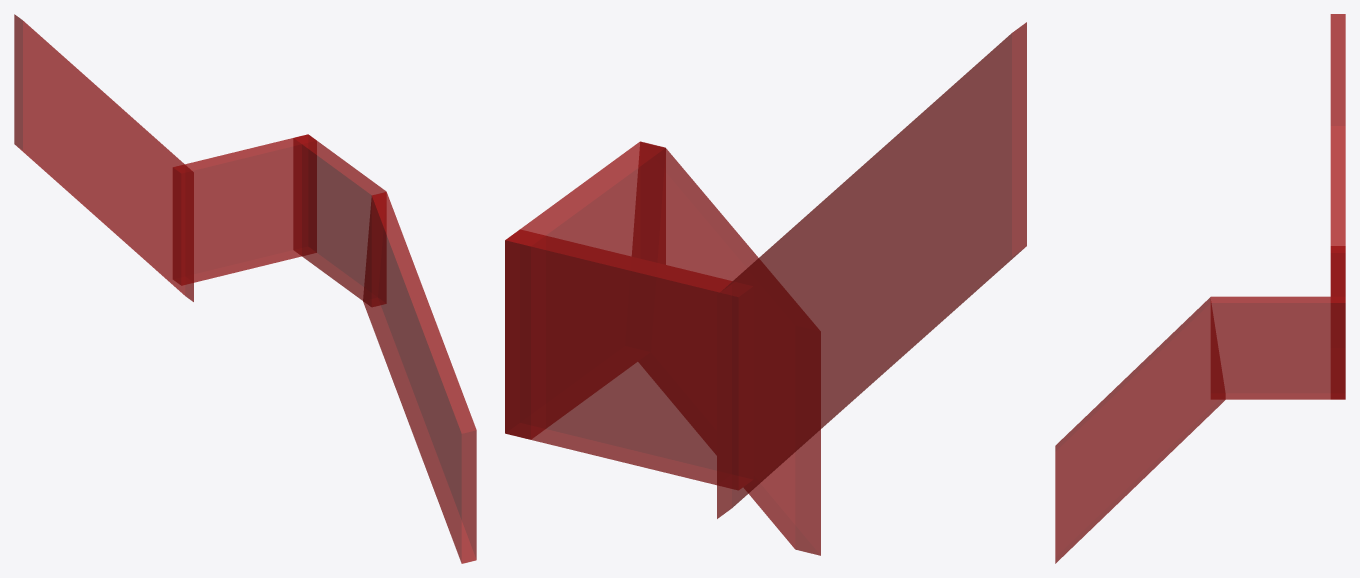
The model's file is SM_Bld_House_Stairs_Tall_Railing_02_Collision.fbx.
3 views of the same model, side by side, from view 1: azimuth 30°, elevation 25°; view 2: azimuth 150°, elevation 25°; view 3: azimuth 270°, elevation 25° (orthographic). The views are drawn at different scales.
Visible parts, largest first — view 1: SM_Bld_House_Stairs_Tall_Railing_02_Collision; view 2: SM_Bld_House_Stairs_Tall_Railing_02_Collision; view 3: SM_Bld_House_Stairs_Tall_Railing_02_Collision.
Boxes of the visible parts, x1=… form: SM_Bld_House_Stairs_Tall_Railing_02_Collision: x1=14, y1=14, x2=476, y2=563; SM_Bld_House_Stairs_Tall_Railing_02_Collision: x1=505, y1=22, x2=1026, y2=555; SM_Bld_House_Stairs_Tall_Railing_02_Collision: x1=1055, y1=14, x2=1345, y2=563.
Size of the model in its own units: 267 by 429 by 264.
